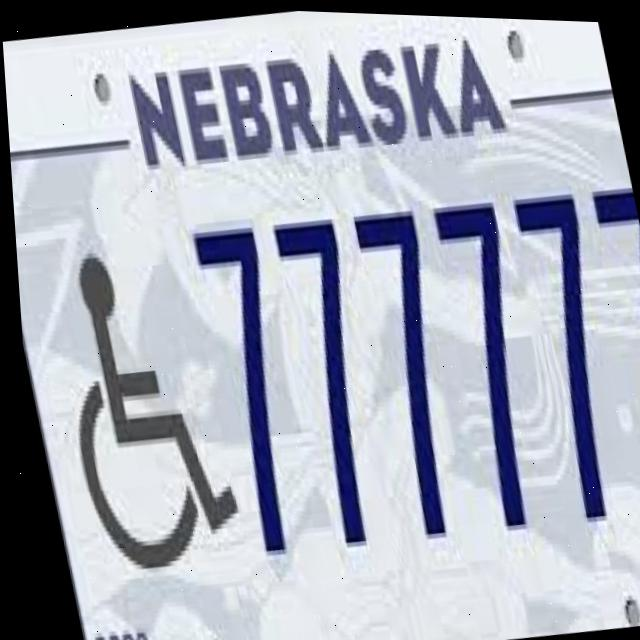symbol_of_access: (35, 239, 243, 585)
